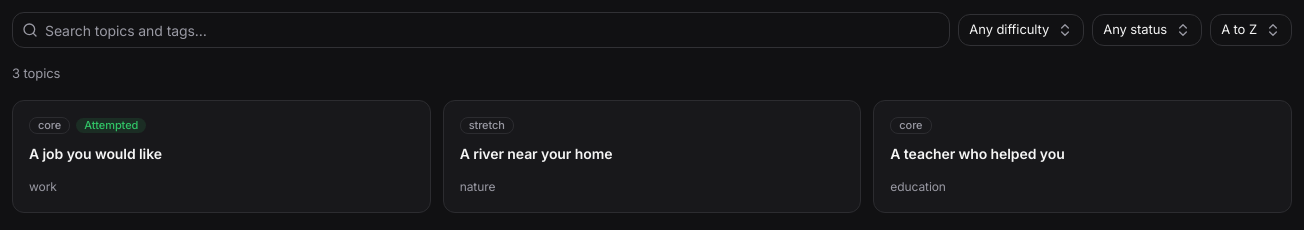
Test: the topic browser › can hide what has already been attempted
Click the button labelled "Any status" at coordinates (1147, 30), box 1092,14 -> 1202,46
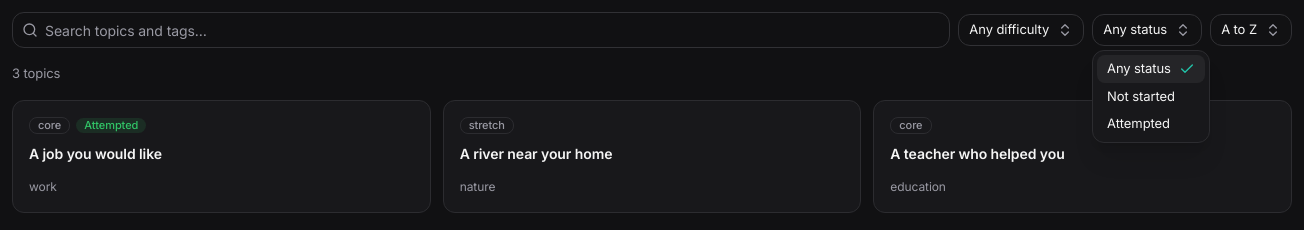
Click the option "Not started" at coordinates (1141, 96), box 1107,88 -> 1175,104
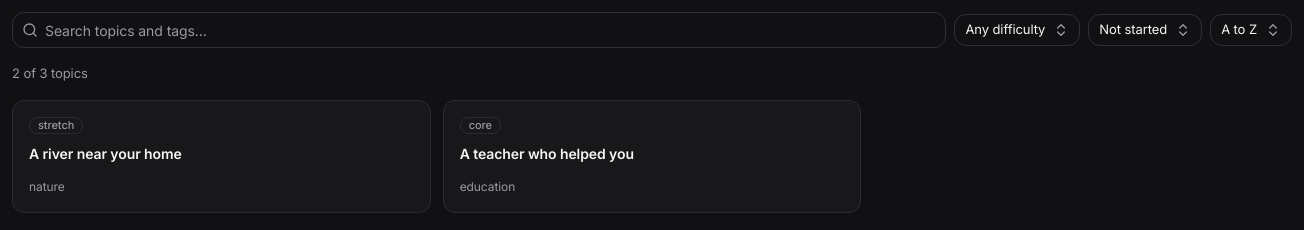
Now the text "2 of 3 topics" is shown, box 12,65 -> 88,81
Now the button "A job you would like" is gone
